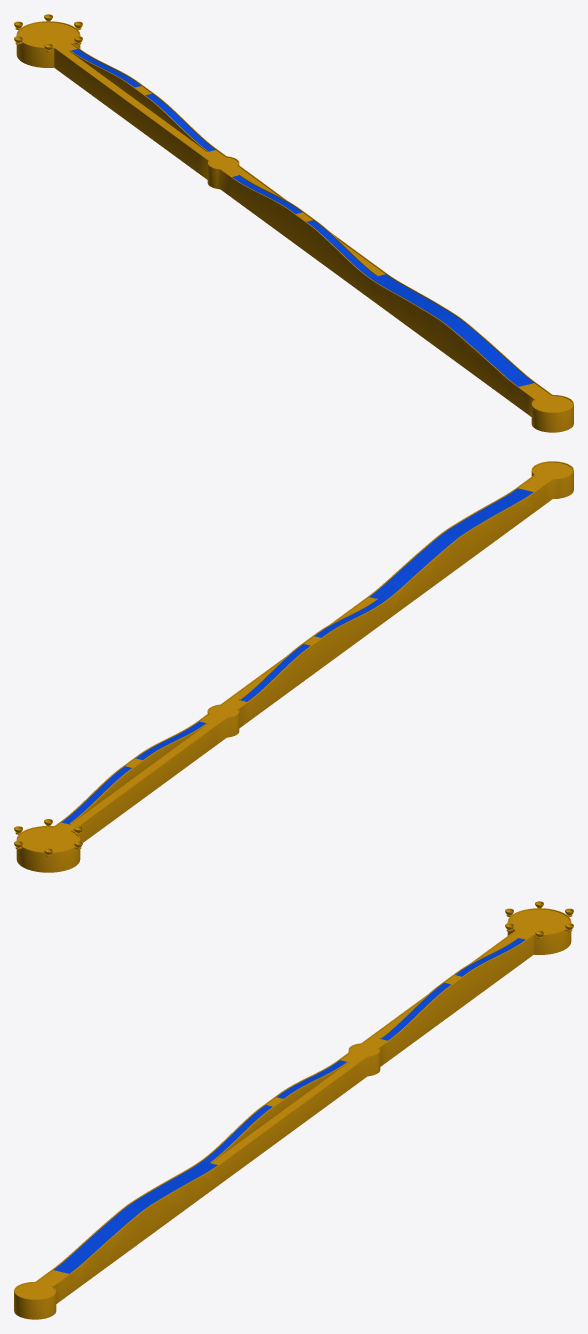
The model's file is buildings4.fbx.
3 renders of one model, top to bottom at view 1: azimuth 30°, elevation 25°; view 2: azimuth 150°, elevation 25°; view 3: azimuth 330°, elevation 25°, orthographic.
Parts seen in each view (by area): view 1: roadEnd, road02B, road03B, road04LB, road06LB, roadStart, road10LB, road08LB, road07, road09; view 2: roadEnd, road03B, road02B, road06LB, road04LB, road08LB, road10LB, road07, roadStart, road09; view 3: roadEnd, road02C, road03C, road10RC, road08RC, roadStart, road04RB, road06RB, road07, road05.
Part boxes in pixels (x1,y1,x2,y2): roadEnd: (14,14,82,71); road02B: (442,322,517,405); road03B: (368,277,442,351); road04LB: (304,221,368,297); road06LB: (230,176,294,242); roadStart: (527,390,573,432); road10LB: (60,52,124,118); road08LB: (135,106,198,172); road07: (198,149,248,196); road09: (124,85,152,126); roadEnd: (14,819,82,872); road03B: (386,536,460,620); road02B: (460,491,535,565); road06LB: (248,645,312,721); road04LB: (322,600,386,666); road08LB: (153,725,216,790); road10LB: (78,779,142,842); road07: (199,697,248,744); roadStart: (528,461,573,503); road09: (124,757,153,798); roadEnd: (505,901,573,958); road02C: (70,1209,145,1292); road03C: (145,1164,219,1238); road10RC: (463,939,527,1005); road08RC: (389,984,452,1059); roadStart: (14,1277,60,1319); road04RB: (219,1118,283,1184); road06RB: (293,1063,357,1129); road07: (339,1036,389,1083); road05: (265,1096,293,1137).
Size of the model in its own units: 368 by 154 by 5012.
